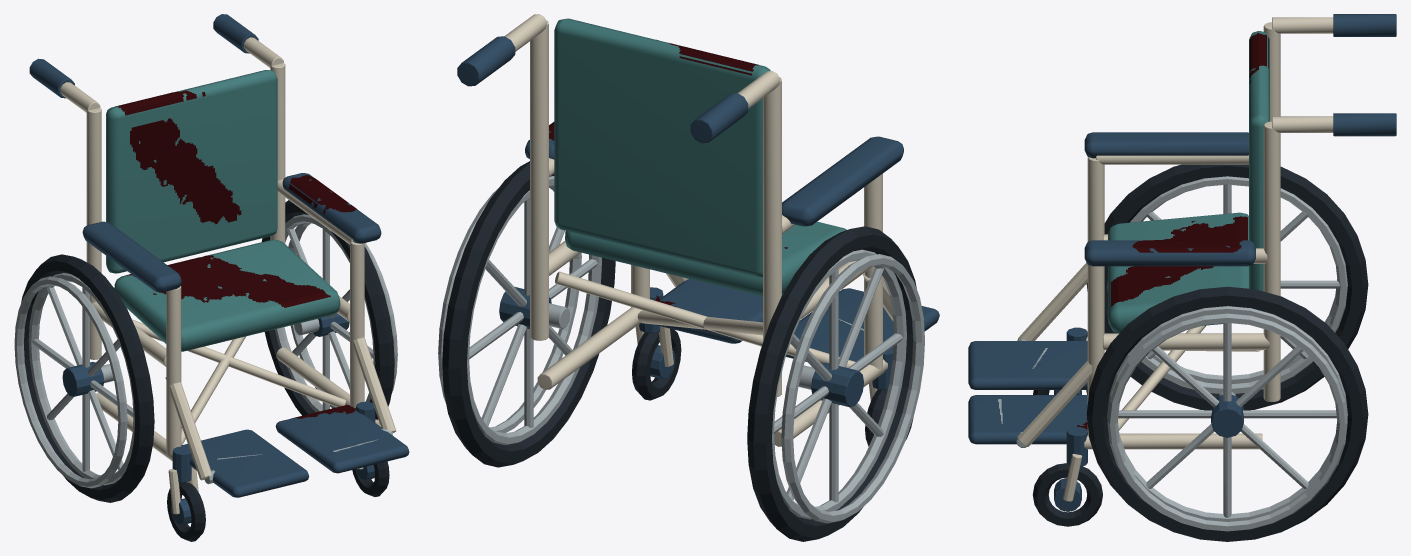
Rendered from wheelchair.glb.
The picture shows the model from 3 angles, left to right: view 1: azimuth 30°, elevation 25°; view 2: azimuth 150°, elevation 25°; view 3: azimuth 270°, elevation 25°; orthographic projection. The views are drawn at different scales.
Parts seen in each view (by area): view 1: wheelchair_Outbreak_Static; view 2: wheelchair_Outbreak_Static; view 3: wheelchair_Outbreak_Static.
Boxes of the visible parts, <box> form: wheelchair_Outbreak_Static: <box>14,14,409,541</box>; wheelchair_Outbreak_Static: <box>438,14,939,541</box>; wheelchair_Outbreak_Static: <box>968,14,1396,541</box>.
Bounding box in the file's own units: 0.7551 × 0.97 × 0.912.
